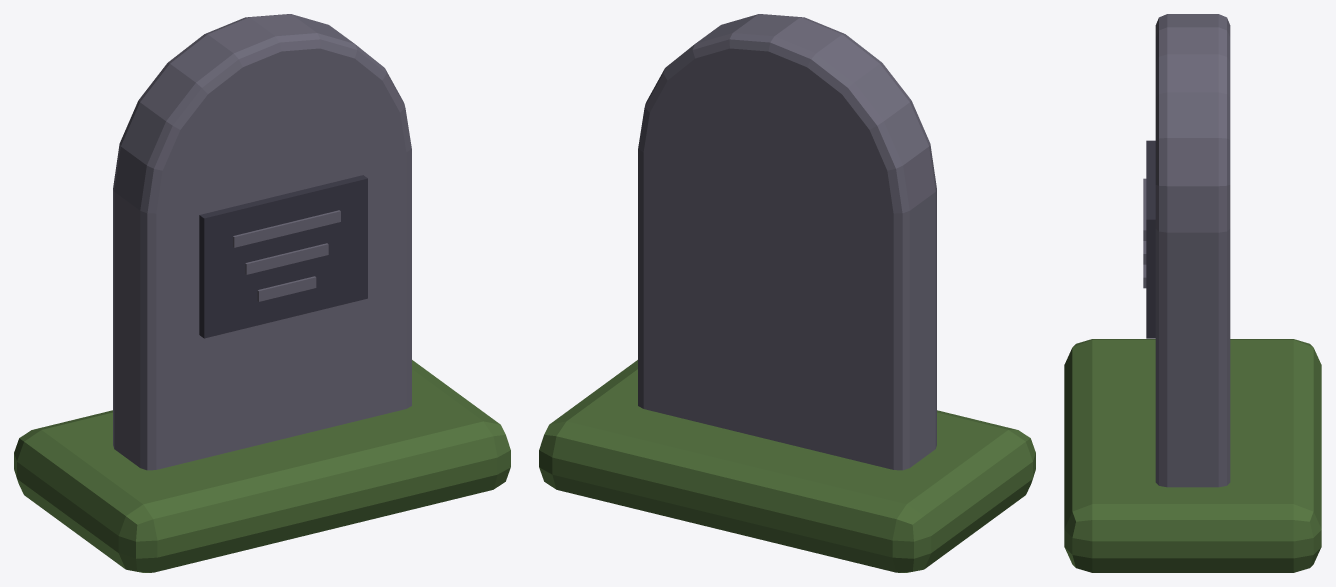
Rendered from gravestone-0.glb.
The picture shows the model from 3 angles, left to right: view 1: azimuth 30°, elevation 25°; view 2: azimuth 150°, elevation 25°; view 3: azimuth 270°, elevation 25°; orthographic projection.
Parts seen in each view (by area): view 1: gravestone; view 2: gravestone; view 3: gravestone.
Part boxes in pixels (x1,y1,x2,y2): gravestone: [14, 14, 510, 572]; gravestone: [539, 14, 1035, 572]; gravestone: [1064, 14, 1321, 572].
Size of the model in its own units: 0.95 by 1.09 by 0.55.
